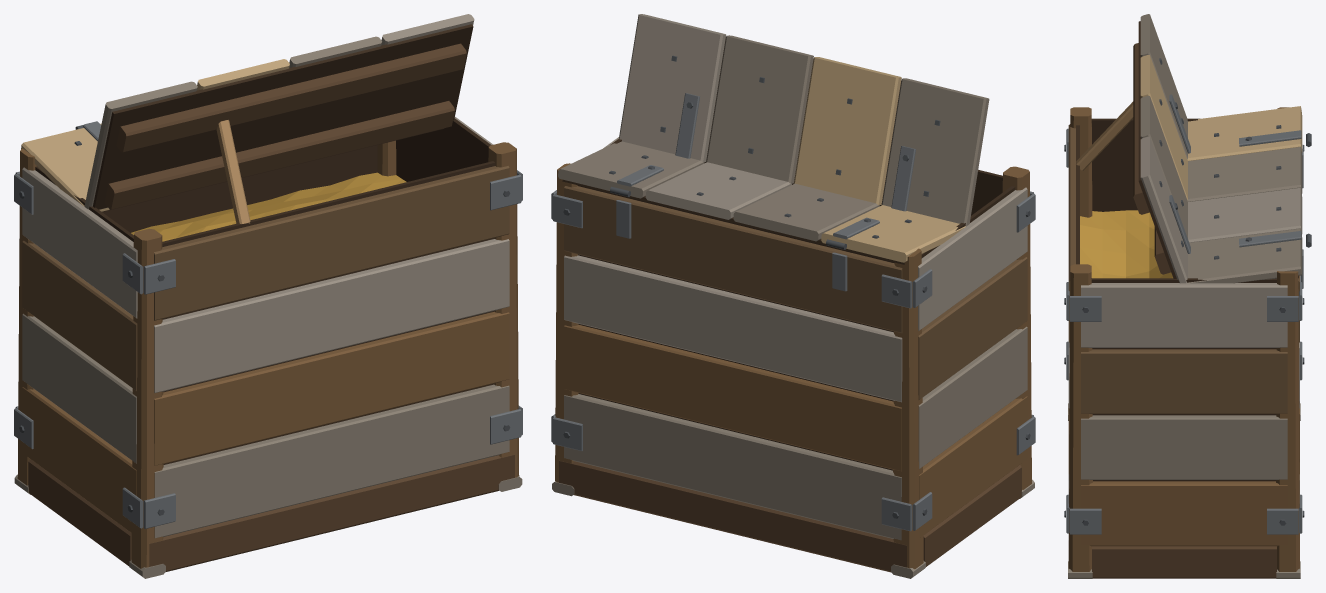
File: SM_LPD_Crate_BinGrain_01.fbx
3 renders of one model, left to right at view 1: azimuth 30°, elevation 25°; view 2: azimuth 150°, elevation 25°; view 3: azimuth 270°, elevation 25°, orthographic. The views are drawn at different scales.
Visible parts, largest first — view 1: SM_LPD_Crate_BinGrain_01; view 2: SM_LPD_Crate_BinGrain_01; view 3: SM_LPD_Crate_BinGrain_01.
Boxes of the visible parts, bbox=[...] form: SM_LPD_Crate_BinGrain_01: bbox=[14, 14, 522, 578]; SM_LPD_Crate_BinGrain_01: bbox=[551, 14, 1035, 578]; SM_LPD_Crate_BinGrain_01: bbox=[1064, 14, 1311, 578].
Size of the model in its own units: 1.23 by 1.34 by 0.7477.
